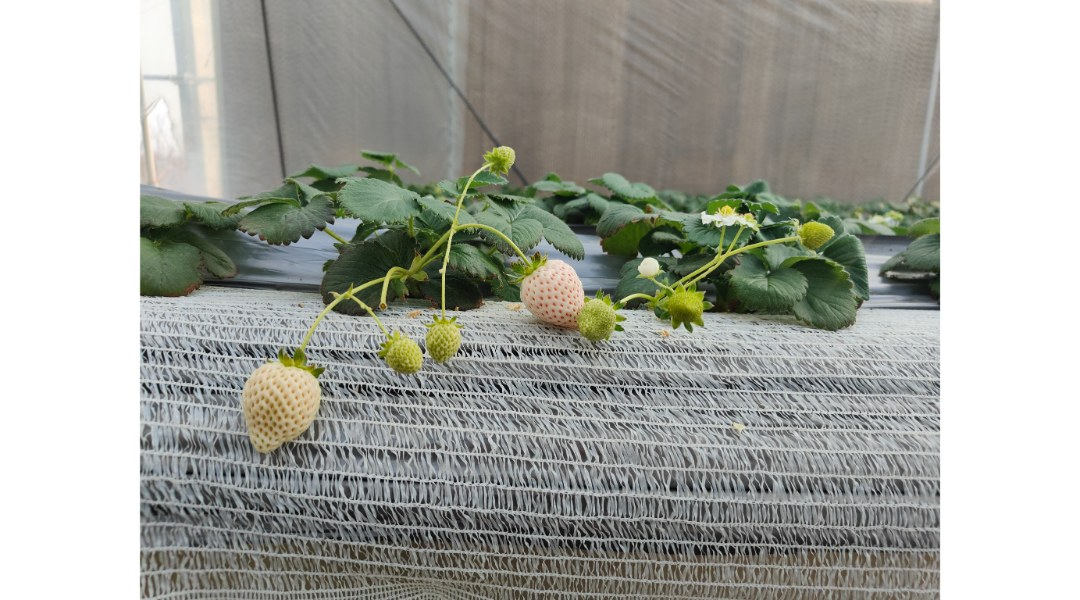berry: (232, 348, 321, 453), (506, 246, 582, 328), (576, 294, 628, 353), (789, 210, 837, 262), (424, 308, 464, 368), (661, 281, 707, 331), (380, 333, 428, 378), (478, 141, 516, 178)
flower: (688, 202, 766, 234), (627, 249, 668, 286)
strain: (443, 170, 474, 295), (465, 214, 533, 263), (298, 295, 342, 358), (739, 234, 792, 260)
